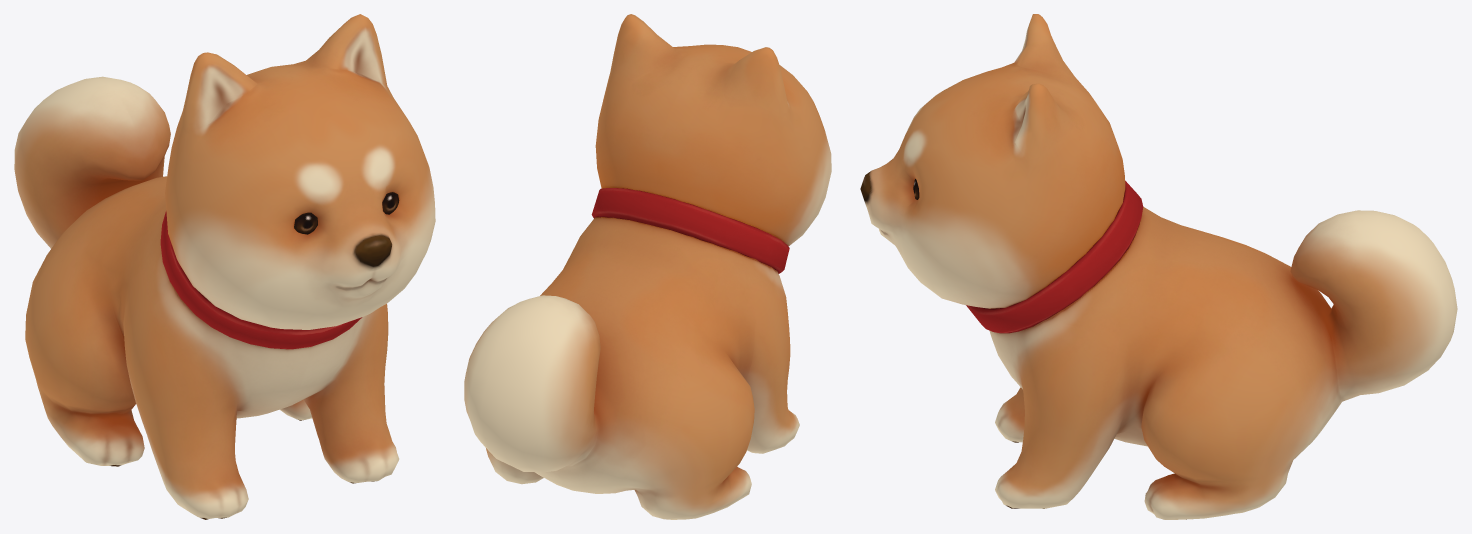
The model's file is siba.gltf.
3 renders of one model, left to right at view 1: azimuth 30°, elevation 25°; view 2: azimuth 150°, elevation 25°; view 3: azimuth 270°, elevation 25°, orthographic. The views are drawn at different scales.
Visible parts, largest first — view 1: Box002, Group18985, Object001_default_0; view 2: Box002, Group18985; view 3: Box002, Group18985.
Boxes of the visible parts, x1,y1,x2,y2 form: Box002: (14,14,435,519); Group18985: (160,211,362,349); Object001_default_0: (294,192,399,234); Box002: (464,14,831,519); Group18985: (591,188,789,273); Box002: (860,14,1457,519); Group18985: (966,180,1143,333).
Bounding box in the file's own units: 0.9208 × 1.38 × 1.77.
Materials: 1 (1 with a texture image).
